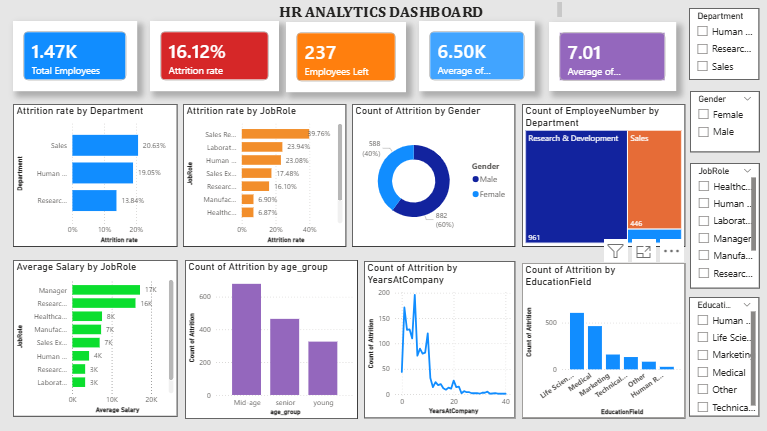

The dashboard page shown, as its layout file describes it:
{"tool":"powerbi","page":{"name":"Page 1","canvas":[1280,720],"ordinal":0},"visuals":[{"type":"cardVisual","fields":{"Data":["employees.Total Employees"]},"box":[21.7,36.7,206.7,116.7],"z":0},{"type":"cardVisual","fields":{"Data":["employees.Attrition rate"]},"box":[250,36.7,215,116.7],"z":1000},{"type":"cardVisual","fields":{"Data":["Avg(employees.MonthlyIncome)"]},"box":[698.3,36.7,193.3,116.7],"z":2000},{"type":"cardVisual","fields":{"Data":["employees.Employees Left"]},"box":[476.7,38.3,200,116.7],"z":3000},{"type":"clusteredBarChart","fields":{"Category":["employees.Department"],"Y":["employees.Attrition rate"]},"box":[21.5,175.2,273.5,237.8],"z":4000},{"type":"barChart","fields":{"Category":["employees.JobRole"],"Y":["employees.Attrition rate"]},"box":[305.7,175.2,271.7,237.8],"z":5000},{"type":"donutChart","fields":{"Category":["employees.Gender"],"Y":["CountNonNull(employees.Attrition)"]},"box":[586.4,175.2,271.7,237.8],"z":6000},{"type":"columnChart","fields":{"Category":["employees.age_group"],"Y":["CountNonNull(employees.Attrition)"]},"box":[308.2,434.9,288,265],"z":7000},{"type":"barChart","fields":{"Category":["employees.JobRole"],"Y":["employees.Average Salary"]},"box":[21.5,434.4,273.5,261],"z":8000},{"type":"lineChart","fields":{"Category":["employees.YearsAtCompany"],"Y":["CountNonNull(employees.Attrition)"]},"box":[606.2,436.3,252,262.1],"z":9000},{"type":"treemap","fields":{"Group":["employees.Department"],"Values":["CountNonNull(employees.EmployeeNumber)"]},"box":[870.6,175.2,271.7,237.8],"z":10000},{"type":"columnChart","fields":{"Category":["employees.EducationField"],"Y":["CountNonNull(employees.Attrition)"]},"box":[870.6,439.8,271.7,259.2],"z":11000},{"type":"cardVisual","fields":{"Data":["Avg(employees.YearsAtCompany)"]},"box":[915,38.3,211.7,115],"z":12000},{"type":"slicer","fields":{"Values":["employees.Department"]},"box":[1149.1,14.4,116.6,119.5],"z":13000},{"type":"slicer","fields":{"Values":["employees.Gender"]},"box":[1149.5,153.7,116.2,101.9],"z":14000},{"type":"slicer","fields":{"Values":["employees.JobRole"]},"box":[1149.5,273.5,116.2,209.2],"z":15000},{"type":"slicer","fields":{"Values":["employees.EducationField"]},"box":[1149.1,496.8,116.6,198.7],"z":16000},{"type":"textbox","box":[336.7,0,605,38.3],"z":17000}]}

Visuals, with their boxes in screenshot pixels (x1, y1, x2, y2), scaled from the page's 1280x720 canvas onto the 767x431 screenshot:
cardVisual - employees.Total Employees: x1=13, y1=22, x2=137, y2=92
cardVisual - employees.Attrition rate: x1=150, y1=22, x2=279, y2=92
cardVisual - Avg(employees.MonthlyIncome): x1=418, y1=22, x2=534, y2=92
cardVisual - employees.Employees Left: x1=286, y1=23, x2=405, y2=93
clusteredBarChart - employees.Department x employees.Attrition rate: x1=13, y1=105, x2=177, y2=247
barChart - employees.JobRole x employees.Attrition rate: x1=183, y1=105, x2=346, y2=247
donutChart - employees.Gender x CountNonNull(employees.Attrition): x1=351, y1=105, x2=514, y2=247
columnChart - employees.age_group x CountNonNull(employees.Attrition): x1=185, y1=260, x2=357, y2=419
barChart - employees.JobRole x employees.Average Salary: x1=13, y1=260, x2=177, y2=416
lineChart - employees.YearsAtCompany x CountNonNull(employees.Attrition): x1=363, y1=261, x2=514, y2=418
treemap - employees.Department x CountNonNull(employees.EmployeeNumber): x1=522, y1=105, x2=684, y2=247
columnChart - employees.EducationField x CountNonNull(employees.Attrition): x1=522, y1=263, x2=684, y2=418
cardVisual - Avg(employees.YearsAtCompany): x1=548, y1=23, x2=675, y2=92
slicer - employees.Department: x1=689, y1=9, x2=758, y2=80
slicer - employees.Gender: x1=689, y1=92, x2=758, y2=153
slicer - employees.JobRole: x1=689, y1=164, x2=758, y2=289
slicer - employees.EducationField: x1=689, y1=297, x2=758, y2=416
textbox: x1=202, y1=0, x2=564, y2=23
